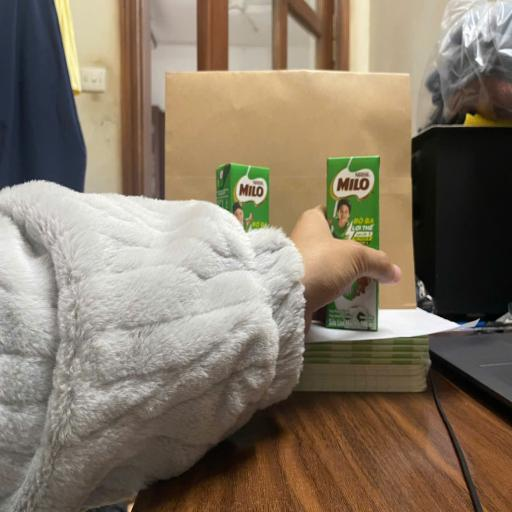milo: (326, 156, 379, 330), (216, 162, 270, 230)
